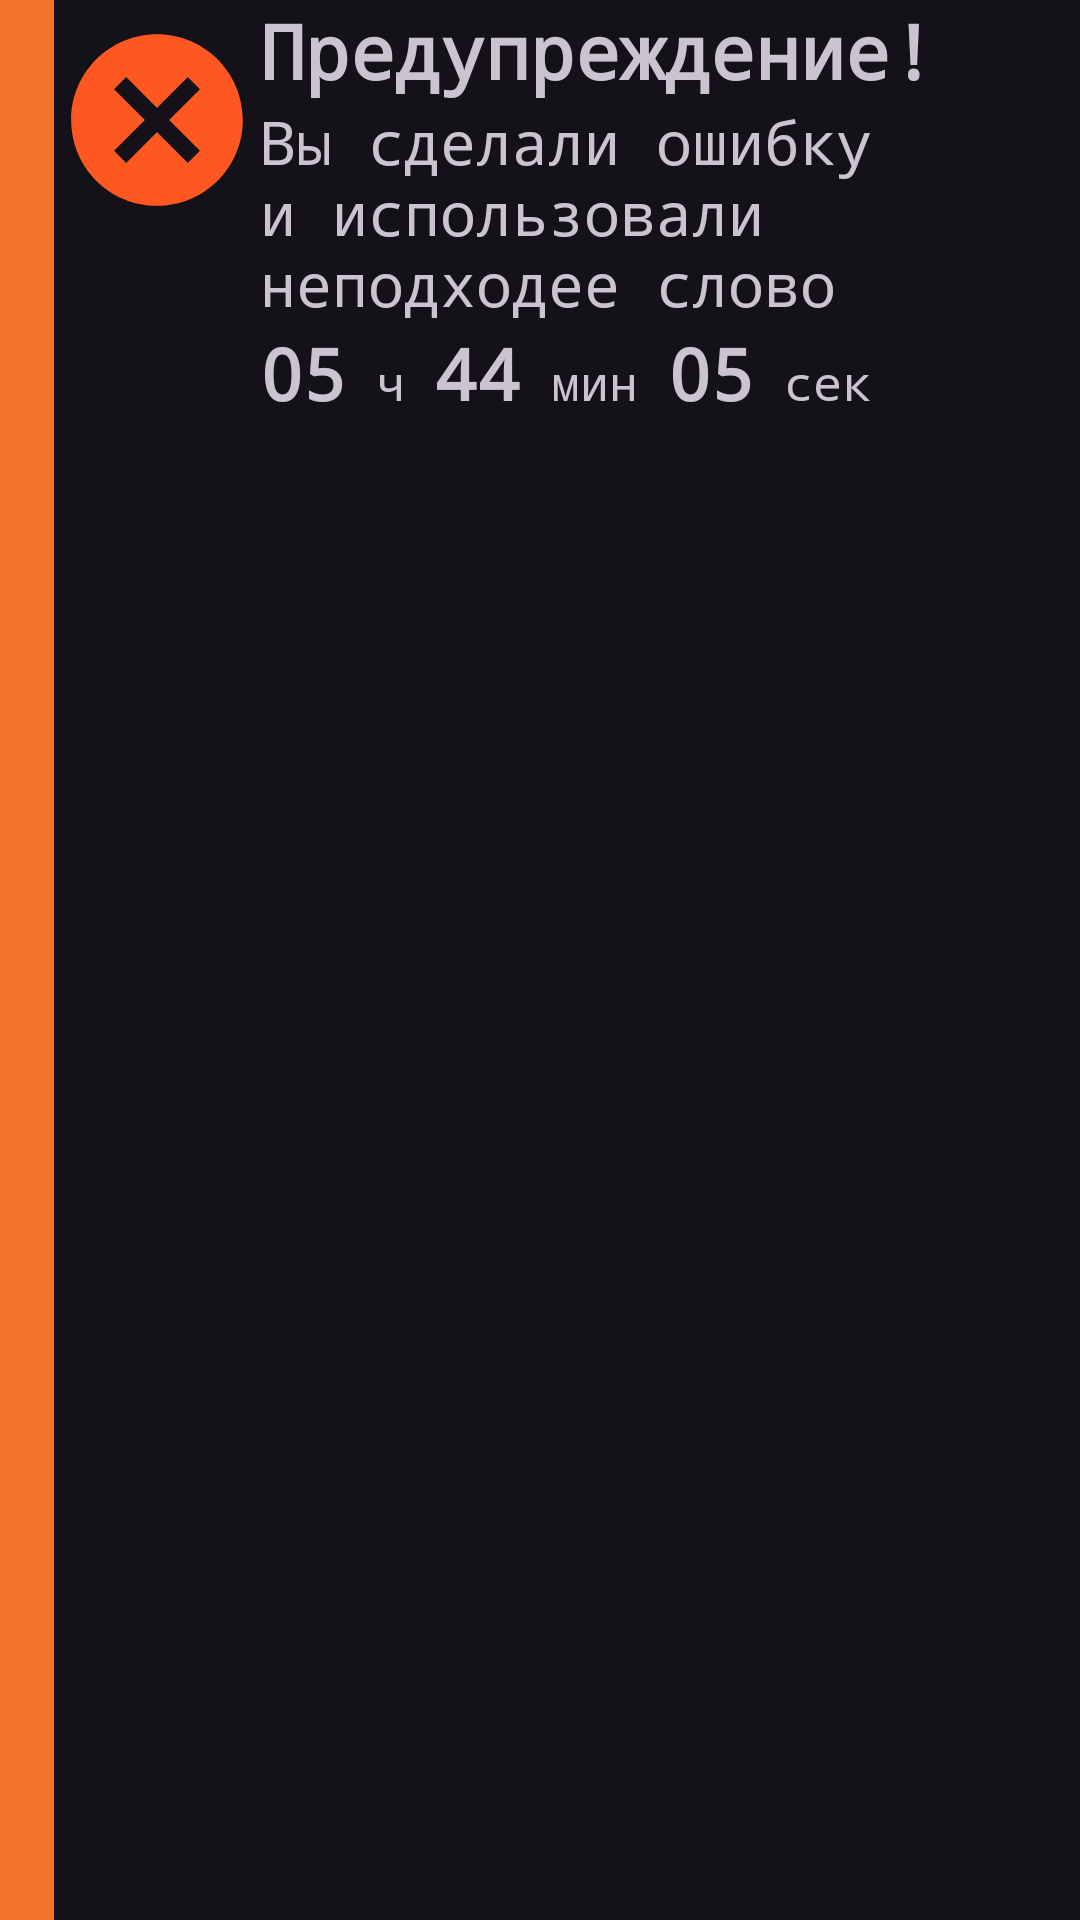

Named icons in this screenshot (1080px×1920px) and their centers, (x=x, y=y):
cancel: (x=157, y=120)
